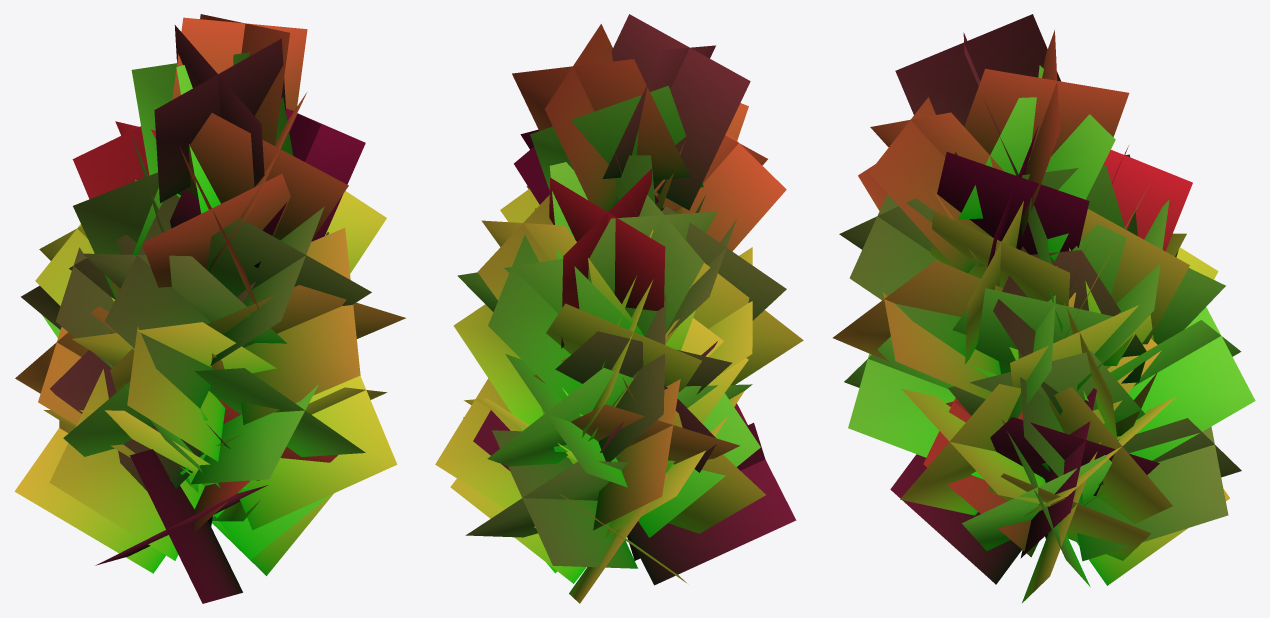
File: Tree_15.fbx
The picture shows the model from 3 angles, left to right: view 1: azimuth 30°, elevation 25°; view 2: azimuth 150°, elevation 25°; view 3: azimuth 270°, elevation 25°; orthographic projection. The views are drawn at different scales.
Visible parts, largest first — view 1: Tree_15; view 2: Tree_15; view 3: Tree_15.
Part boxes in pixels (x1,y1,x2,y2): Tree_15: (14, 14, 405, 603); Tree_15: (435, 14, 803, 603); Tree_15: (833, 14, 1255, 602).
Size of the model in its own units: 1081 by 1843 by 1286.
